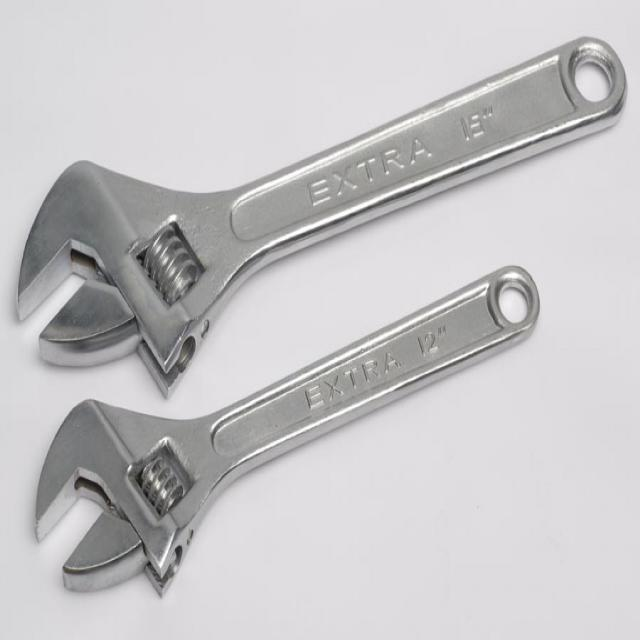wrench: (12, 27, 632, 402), (33, 259, 544, 608)
